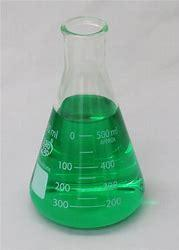Titrarion: (29, 4, 146, 230)
